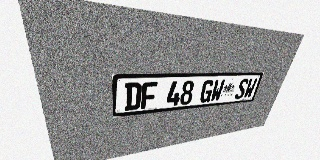4: (166, 81, 183, 106)
8: (179, 80, 196, 105)
D: (124, 82, 142, 111)
F: (141, 82, 158, 109)
G: (199, 80, 215, 103)
S: (234, 78, 249, 99)
W: (209, 79, 225, 102), (243, 78, 258, 98)
